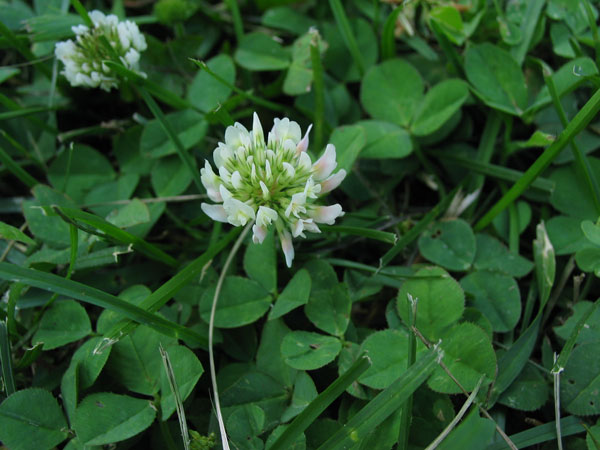clover: (353, 262, 499, 394), (29, 283, 153, 390), (196, 222, 313, 330), (350, 55, 469, 160), (281, 278, 376, 401), (1, 359, 106, 450)
clover blossom white: (198, 107, 349, 269), (50, 9, 149, 92)
